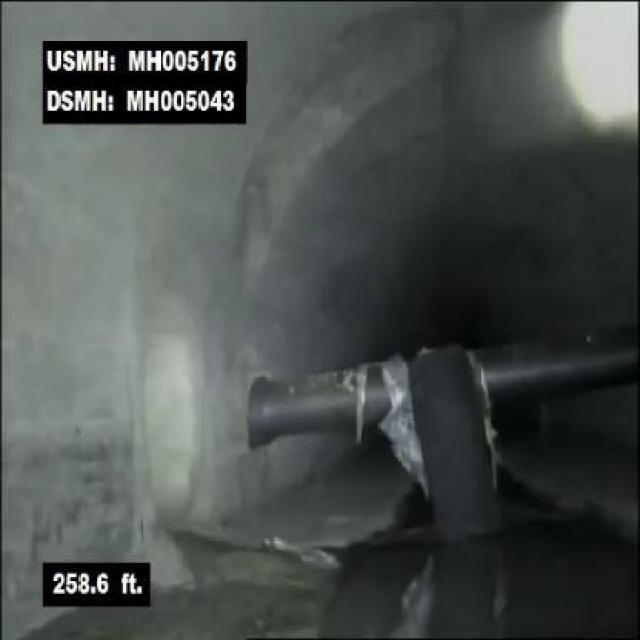Utility intrusion: (240, 325, 638, 457)
